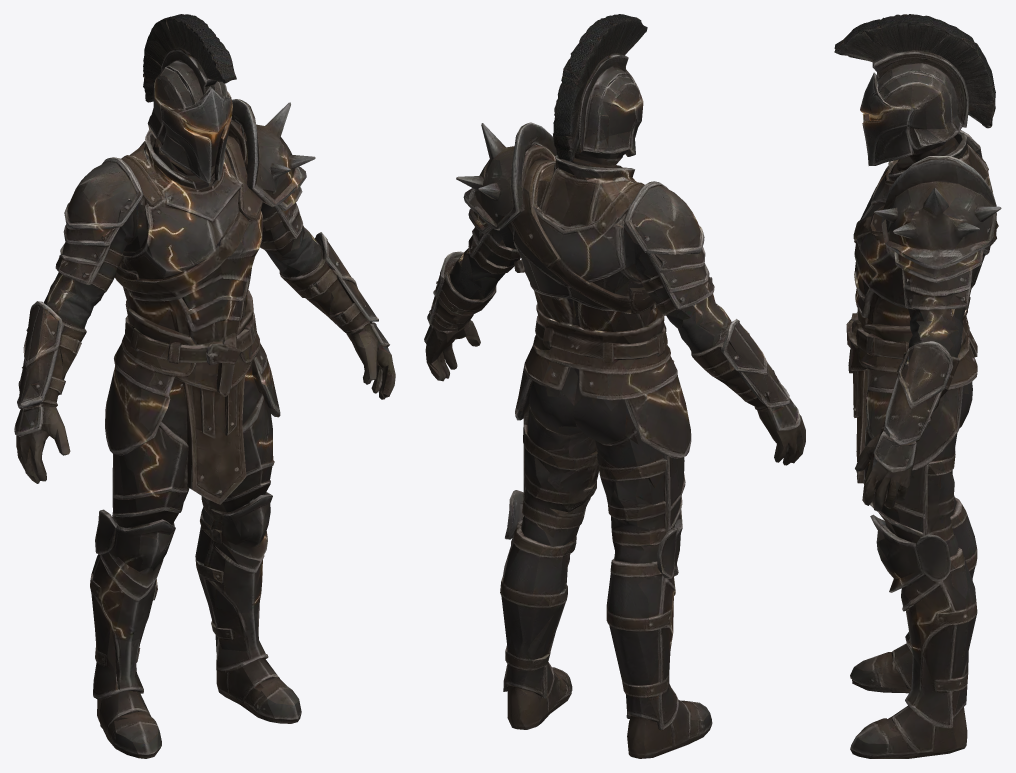
Rendered from model-open.glb.
3 views of the same model, side by side, from view 1: azimuth 30°, elevation 25°; view 2: azimuth 150°, elevation 25°; view 3: azimuth 270°, elevation 25° (orthographic).
Parts seen in each view (by area): view 1: mesh_node; view 2: mesh_node; view 3: mesh_node.
Part boxes in pixels (left/top/right/bottom): mesh_node: left=14, top=14, right=395, bottom=758; mesh_node: left=424, top=14, right=805, bottom=758; mesh_node: left=834, top=14, right=1001, bottom=758.
Bounding box in the file's own units: 1.06 × 1.9 × 0.4123.
Materials: 1 (1 with a texture image).
